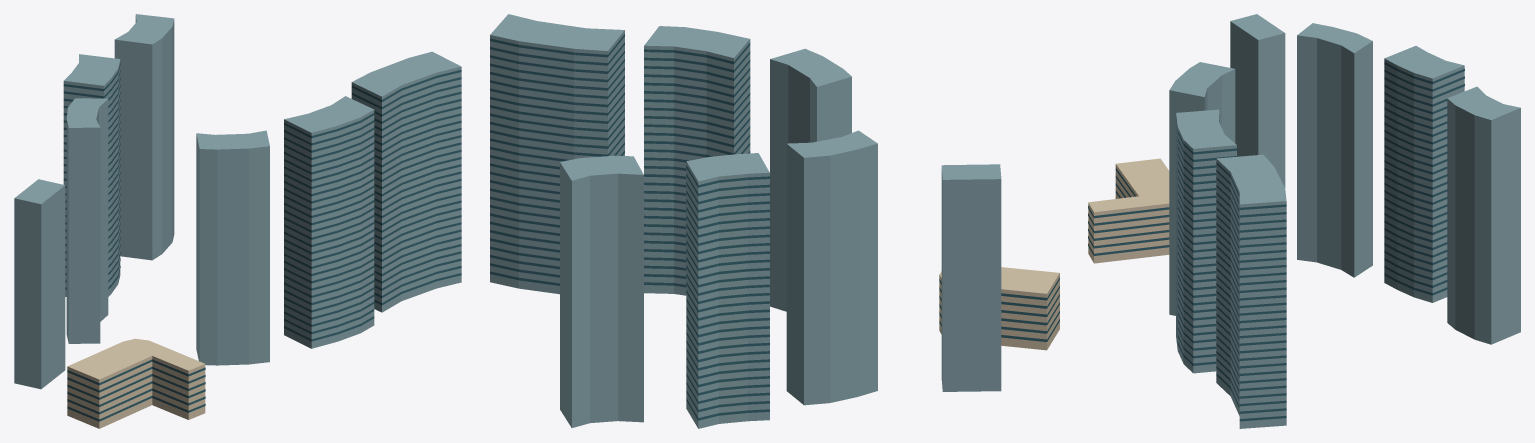
Rendered from city_2_-7.glb.
The picture shows the model from 3 angles, left to right: view 1: azimuth 30°, elevation 25°; view 2: azimuth 150°, elevation 25°; view 3: azimuth 270°, elevation 25°; orthographic projection. The views are drawn at different scales.
Visible parts, largest first — view 1: city_2_-7; view 2: city_2_-7; view 3: city_2_-7.
Part boxes in pixels (bbox=[...]): city_2_-7: bbox=[14, 14, 461, 428]; city_2_-7: bbox=[490, 14, 1059, 428]; city_2_-7: bbox=[1088, 14, 1520, 428].
Bounding box in the file's own units: 253 × 119 × 208.
